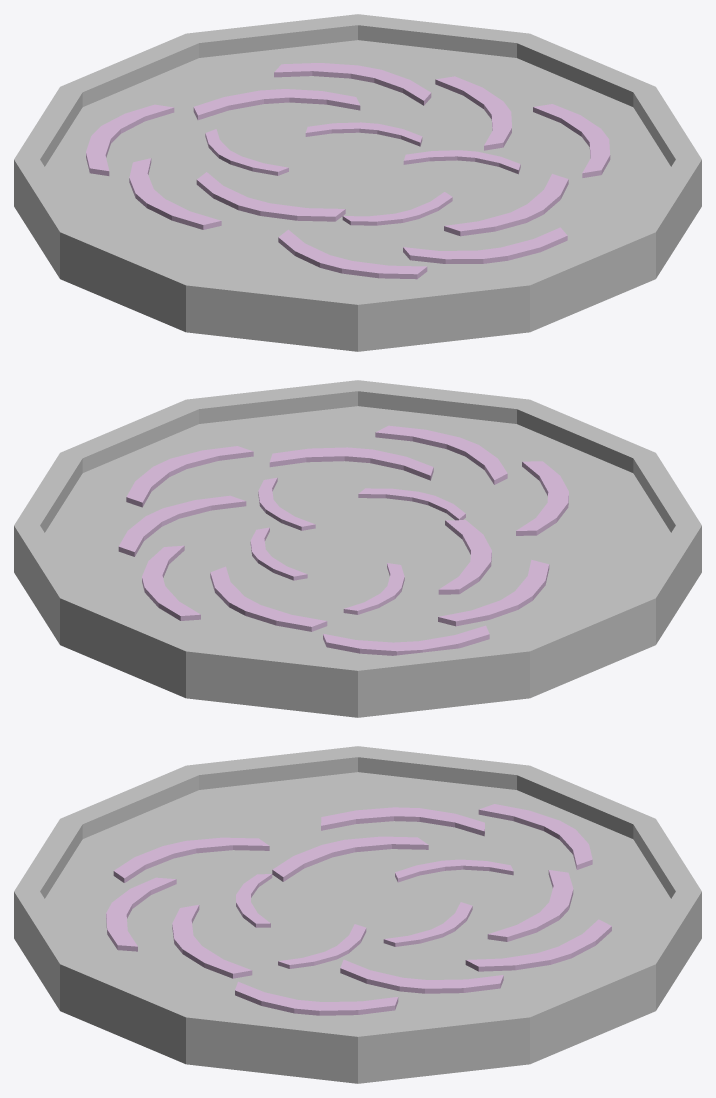
File: CookedOnion.fbx
3 views of the same model, one above another, from view 1: azimuth 30°, elevation 25°; view 2: azimuth 150°, elevation 25°; view 3: azimuth 270°, elevation 25° (orthographic).
Visible parts, largest first — view 1: PizzaBase, Onions; view 2: PizzaBase, Onions; view 3: PizzaBase, Onions.
Part boxes in pixels (box(x1,y1,x2,y2)): PizzaBase: box(14, 14, 701, 351); Onions: box(86, 63, 610, 279); PizzaBase: box(14, 380, 701, 717); Onions: box(118, 425, 568, 655); PizzaBase: box(14, 746, 701, 1083); Onions: box(106, 804, 611, 1015).
Size of the model in its own units: 200 by 15.07 by 200.
